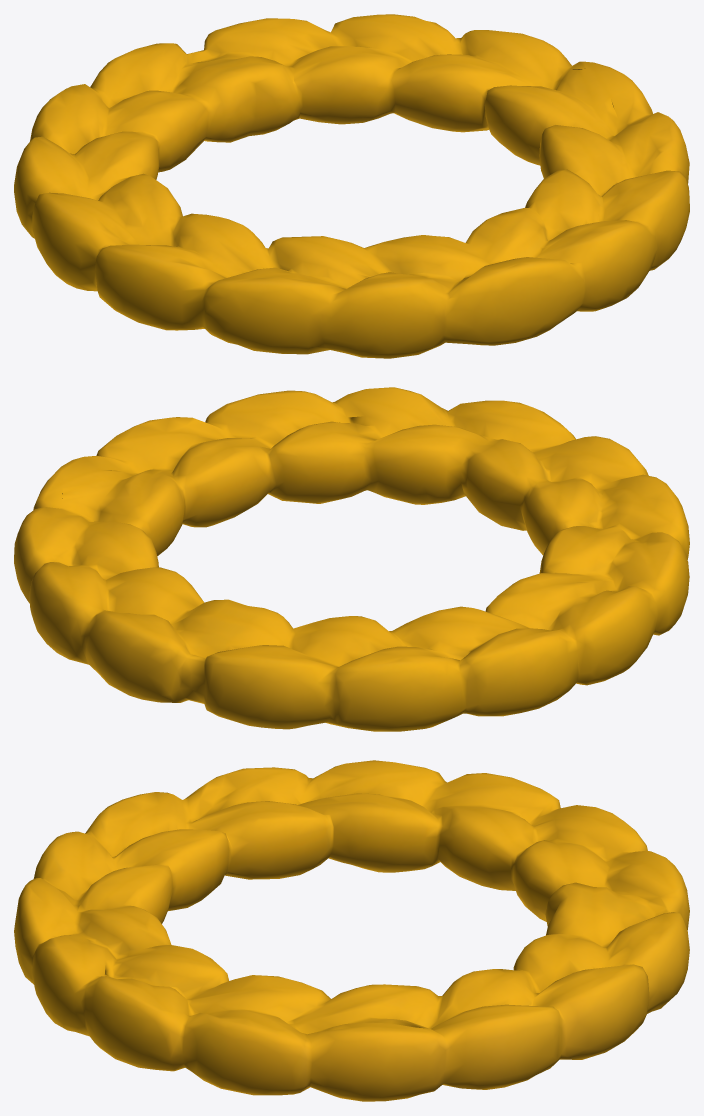
Rendered from Item_Laurel.fbx.
The picture shows the model from 3 angles, top to bottom: view 1: azimuth 30°, elevation 25°; view 2: azimuth 150°, elevation 25°; view 3: azimuth 270°, elevation 25°; orthographic projection.
Visible parts, largest first — view 1: Item_Laurel; view 2: Item_Laurel; view 3: Item_Laurel.
Part boxes in pixels (x1,y1,x2,y2): Item_Laurel: [14, 14, 689, 358]; Item_Laurel: [14, 387, 689, 731]; Item_Laurel: [14, 760, 689, 1101].
Size of the model in its own units: 2.5 by 0.3043 by 2.5.
1 material, 1 textured.
